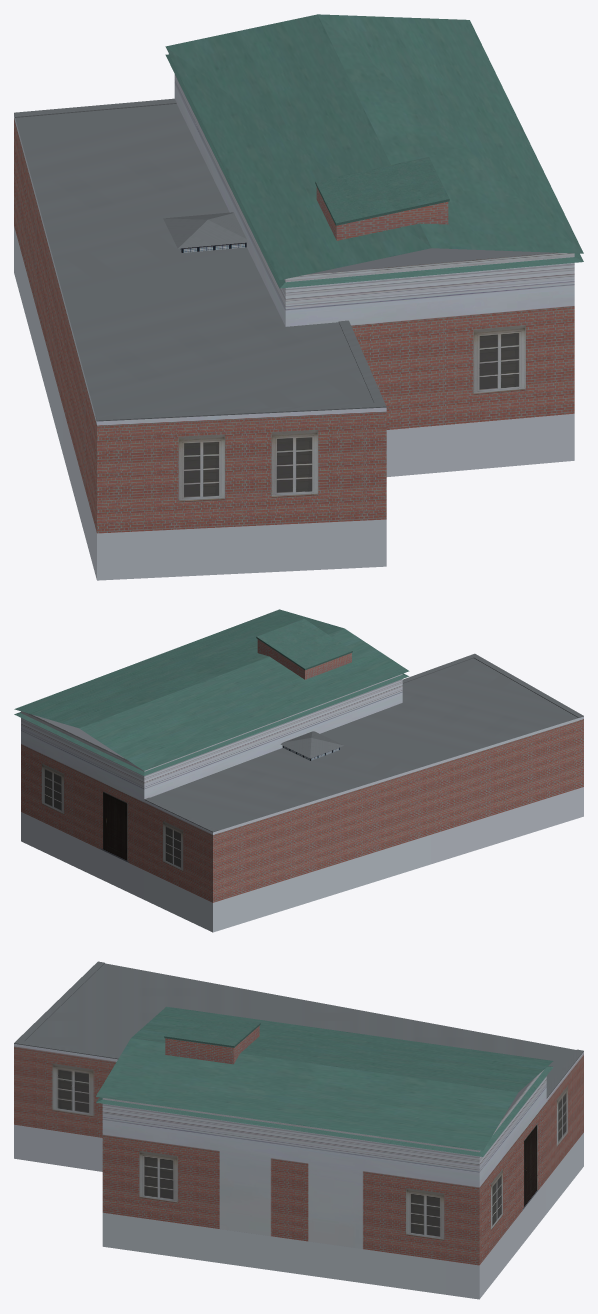
3 renders of one model, top to bottom at view 1: azimuth 30°, elevation 25°; view 2: azimuth 150°, elevation 25°; view 3: azimuth 270°, elevation 25°, orthographic. The views are drawn at different scales.
Parts seen in each view (by area): view 1: Group_002, Group_024, Group_012, Group_020, Group_005, Group_018, Group_006, Group_001, Group_007, Group_010, Group_022, Group_004 (+3 smaller); view 2: Group_002, Group_018, Group_024, Group_005, Group_009, Group_010, Group_016, Group_006, Group_001, Group_007, Group_026, Group_003 (+3 smaller); view 3: Group_008, Group_002, Group_024, Group_006, Group_016, Group_009, Group_005, Group_007, Group_001, Group_003, Group_022.
Boxes of the visible parts, x1,y1,x2,y2 form: Group_002: [165, 14, 583, 279]; Group_024: [15, 104, 373, 416]; Group_012: [285, 252, 574, 429]; Group_020: [97, 407, 386, 533]; Group_005: [14, 226, 386, 580]; Group_018: [14, 114, 96, 532]; Group_006: [386, 413, 574, 476]; Group_001: [315, 157, 449, 225]; Group_007: [165, 54, 583, 288]; Group_010: [174, 74, 285, 326]; Group_022: [95, 320, 386, 421]; Group_004: [163, 212, 247, 248]; Group_002: [14, 609, 409, 770]; Group_018: [213, 716, 583, 902]; Group_024: [150, 658, 577, 830]; Group_005: [144, 787, 583, 932]; Group_009: [21, 711, 144, 869]; Group_010: [144, 674, 402, 798]; Group_016: [144, 800, 212, 902]; Group_006: [21, 812, 144, 899]; Group_001: [256, 618, 352, 670]; Group_007: [14, 673, 409, 775]; Group_026: [218, 718, 578, 833]; Group_003: [257, 639, 351, 679]; Group_008: [102, 1098, 479, 1265]; Group_002: [96, 1006, 553, 1150]; Group_024: [25, 963, 576, 1087]; Group_006: [102, 1180, 546, 1299]; Group_016: [14, 1043, 583, 1179]; Group_009: [479, 1069, 546, 1264]; Group_005: [14, 1124, 583, 1213]; Group_007: [96, 1066, 553, 1156]; Group_001: [164, 1013, 260, 1047]; Group_003: [165, 1026, 259, 1064]; Group_022: [14, 961, 119, 1059].
Bounding box in the file's own units: 28.41 × 10.65 × 30.35.
13 materials, 12 textured.
